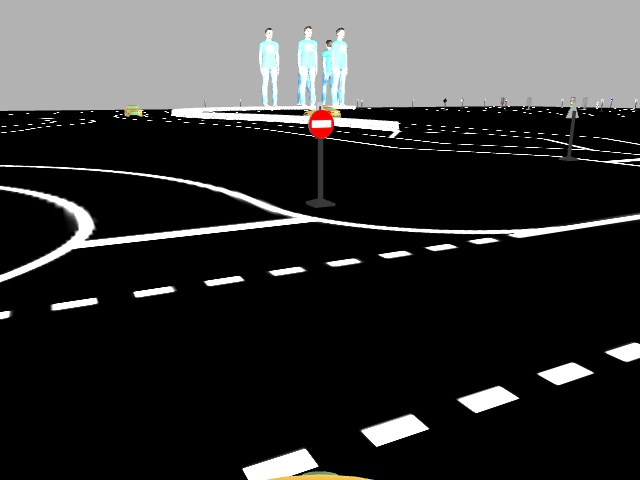NoEntry: (304, 109, 334, 139)
